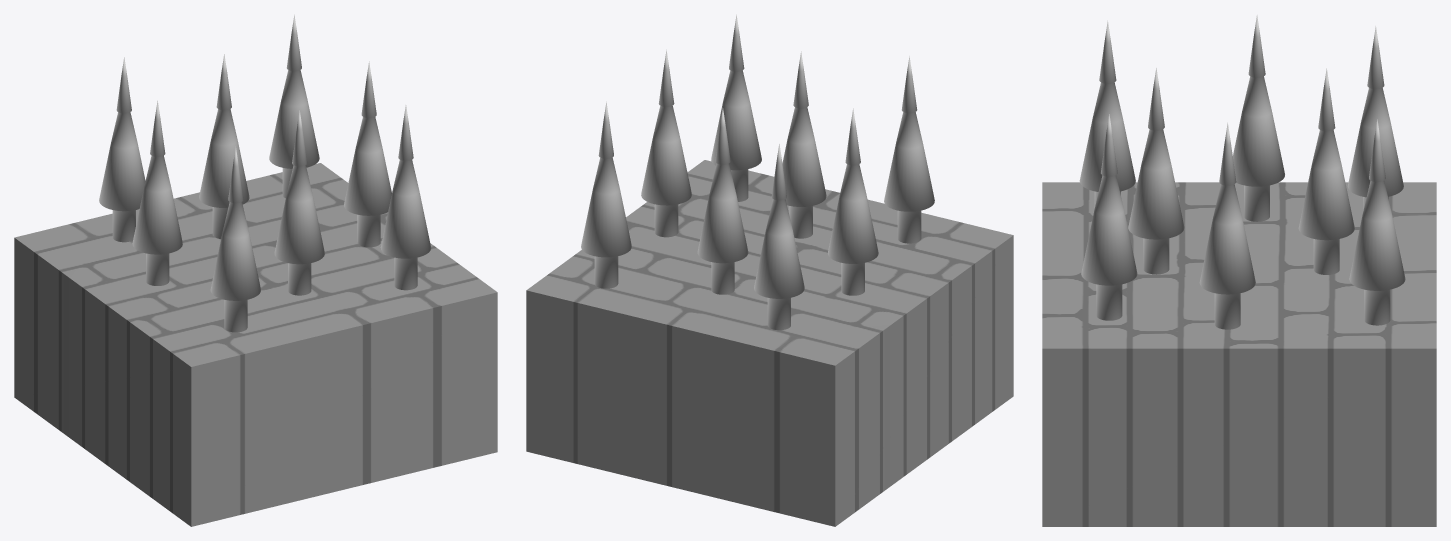
File: PicTiles4.fbx
The picture shows the model from 3 angles, left to right: view 1: azimuth 30°, elevation 25°; view 2: azimuth 150°, elevation 25°; view 3: azimuth 270°, elevation 25°; orthographic projection. The views are drawn at different scales.
Parts seen in each view (by area): view 1: Ground, Pic.004, Pic.010, Pic.005, Pic.007, Pic.014, Pic.009, Pic.012, Pic.015; view 2: Ground, Pic.004, Pic.014, Pic.015, Pic.012, Pic.005, Pic.009, Pic.007, Pic.010; view 3: Ground, Pic.014, Pic.010, Pic.007, Pic.012, Pic.015, Pic.005, Pic.004, Pic.009.
Boxes of the visible parts, left/top/right/bottom form: Ground: left=14, top=163, right=497, bottom=526; Pic.004: left=210, top=146, right=260, bottom=332; Pic.010: left=380, top=105, right=431, bottom=290; Pic.005: left=132, top=100, right=182, bottom=285; Pic.007: left=274, top=110, right=324, bottom=295; Pic.014: left=344, top=61, right=391, bottom=247; Pic.009: left=99, top=57, right=145, bottom=242; Pic.012: left=199, top=54, right=249, bottom=238; Pic.015: left=269, top=14, right=319, bottom=198; Ground: left=526, top=160, right=1013, bottom=526; Pic.004: left=884, top=56, right=934, bottom=243; Pic.014: left=641, top=49, right=691, bottom=237; Pic.015: left=581, top=101, right=631, bottom=288; Pic.012: left=697, top=108, right=748, bottom=294; Pic.005: left=828, top=108, right=878, bottom=295; Pic.009: left=754, top=144, right=804, bottom=330; Pic.007: left=782, top=51, right=826, bottom=238; Pic.010: left=711, top=14, right=761, bottom=201; Ground: left=1042, top=182, right=1436, bottom=526; Pic.014: left=1199, top=122, right=1255, bottom=329; Pic.010: left=1081, top=114, right=1137, bottom=320; Pic.007: left=1128, top=68, right=1184, bottom=274; Pic.012: left=1298, top=68, right=1354, bottom=274; Pic.015: left=1349, top=119, right=1405, bottom=325; Pic.005: left=1232, top=15, right=1284, bottom=221; Pic.004: left=1079, top=20, right=1135, bottom=207; Pic.009: left=1347, top=26, right=1403, bottom=211.
Size of the model in its own units: 200 by 213 by 200.
